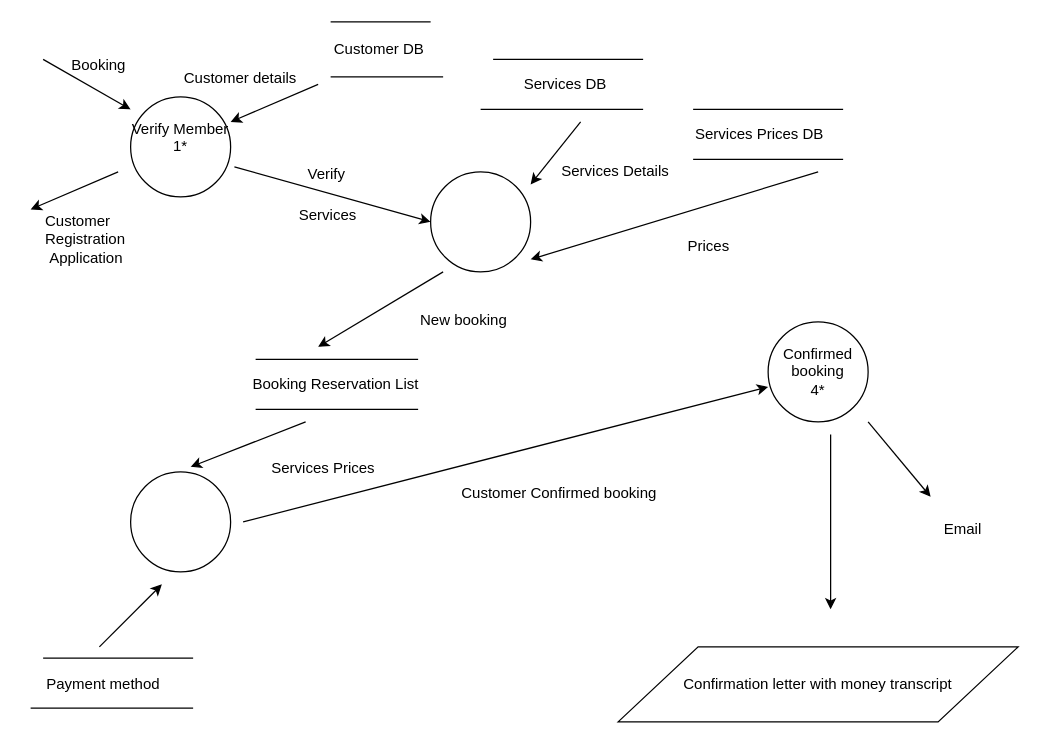
This 1040x744 diagram has some shape labels left out. The shapes that lost their labels are listed below. From the top down, each one's box as (x1, y1, x2, y2) in pixels, then its label:
(429, 171, 531, 272): Check Services 2*
(129, 471, 231, 572): Payment 3
